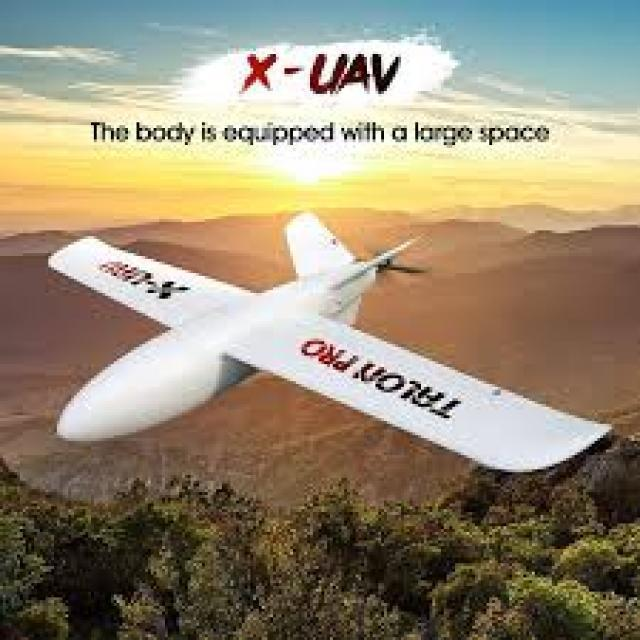iha: (29, 202, 622, 476)
